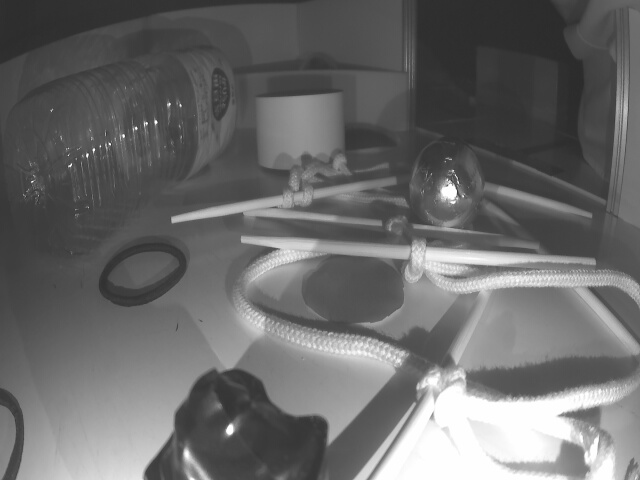Dead: (154, 375, 321, 480)
Live: (408, 136, 489, 241)
Point: (202, 60, 410, 132)
